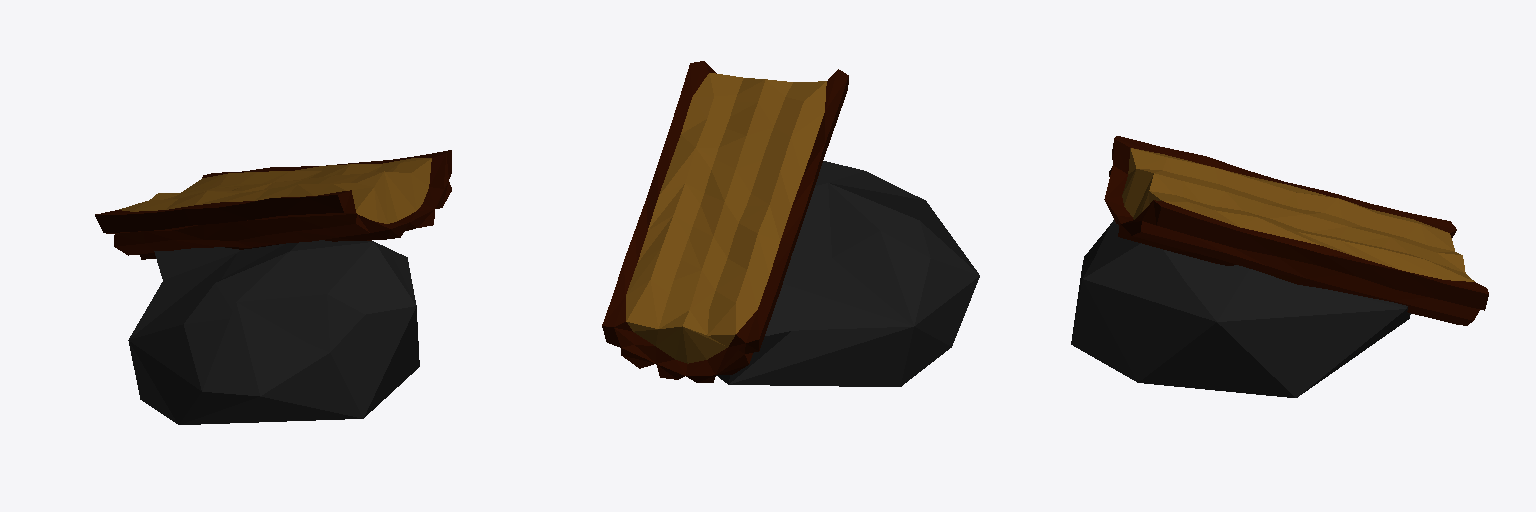
The model's file is arbol8.obj.
The picture shows the model from 3 angles: view 1: azimuth 30°, elevation 25°; view 2: azimuth 150°, elevation 25°; view 3: azimuth 270°, elevation 25°; orthographic projection.
Visible parts, largest first — view 1: Icosphere.004, Cube.001; view 2: Cube.001, Icosphere.004; view 3: Cube.001, Icosphere.004.
Boxes of the visible parts, x1,y1,x2,y2 form: Icosphere.004: [128, 240, 419, 424]; Cube.001: [95, 150, 451, 259]; Cube.001: [602, 61, 848, 382]; Icosphere.004: [716, 161, 979, 386]; Cube.001: [1104, 136, 1488, 325]; Icosphere.004: [1071, 220, 1410, 397].
Bounding box in the file's own units: 2.84 × 2.44 × 3.75.